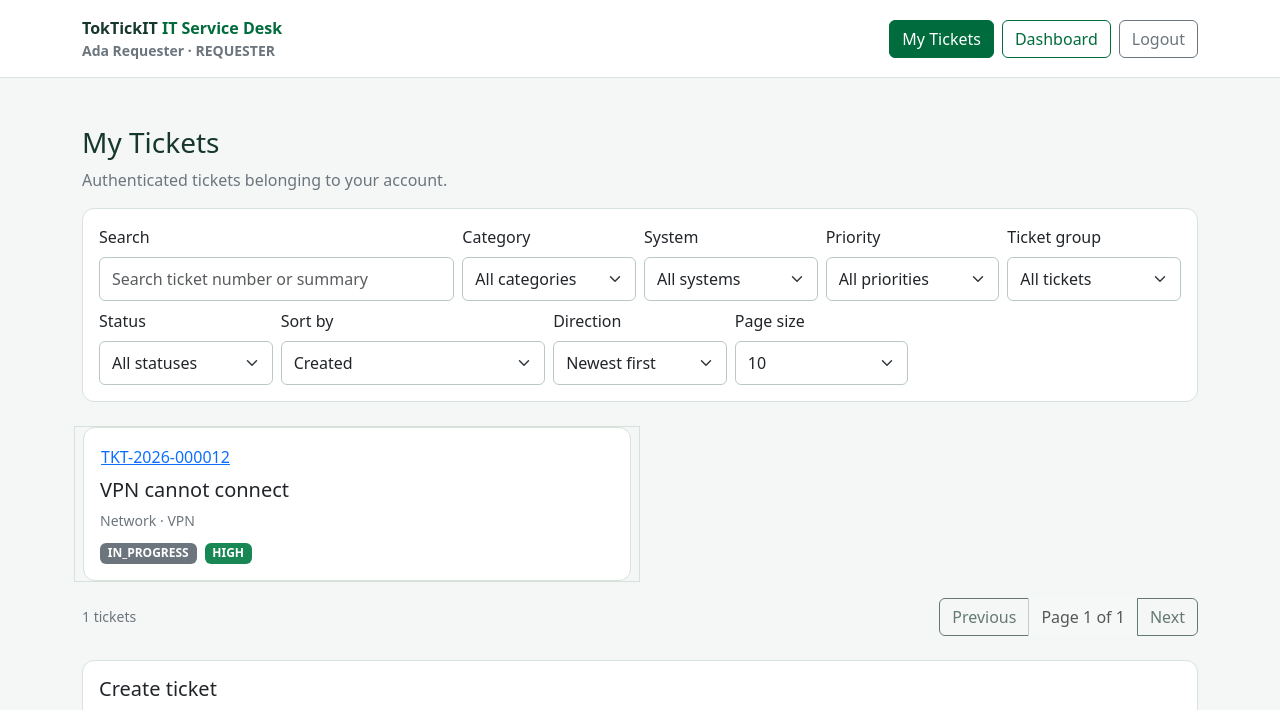
Test: Lab 3 Requester interactions › posts a Public Comment with the authenticated ticket and content
The image size is (1280, 710).
Click the button with aria-label "Open ticket TKT-2026-000012".
click(165, 457)  # box [100,444,231,470]
(page scrolled)
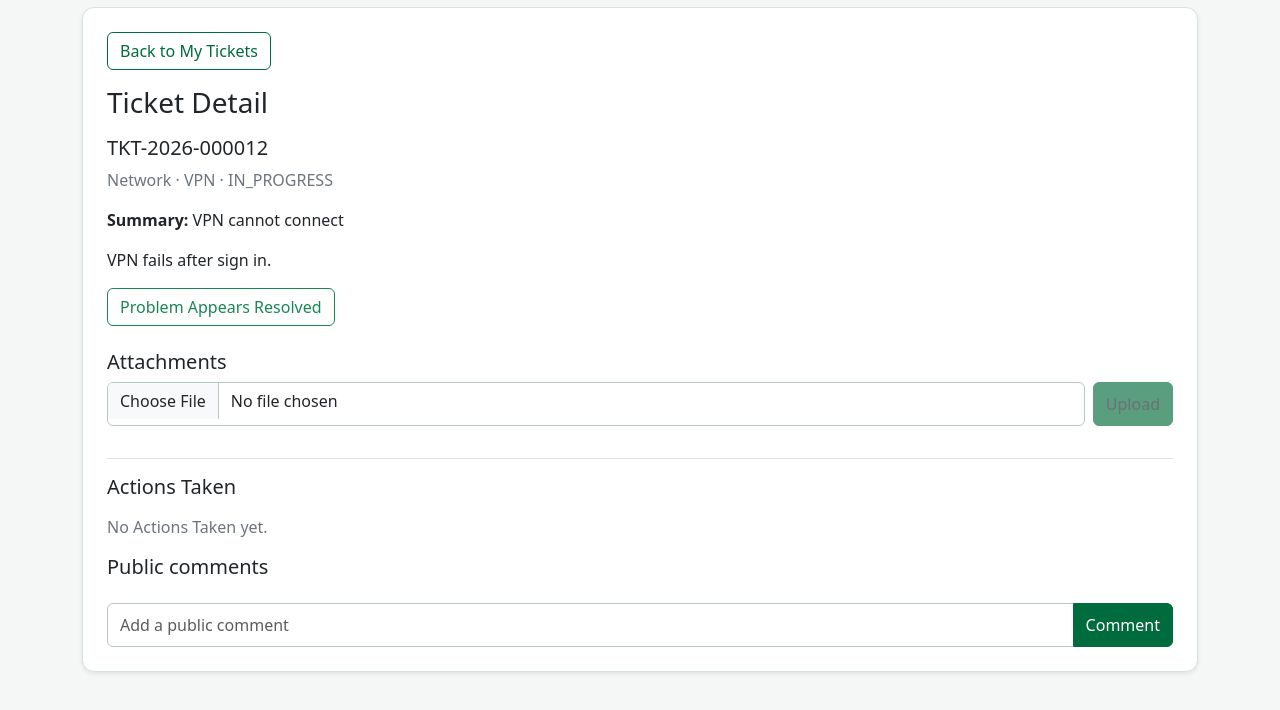
Type "VPN is working now." into the field labelled "public comment".
click(590, 625); type("VPN is working now.")  # box [107,603,1074,647]
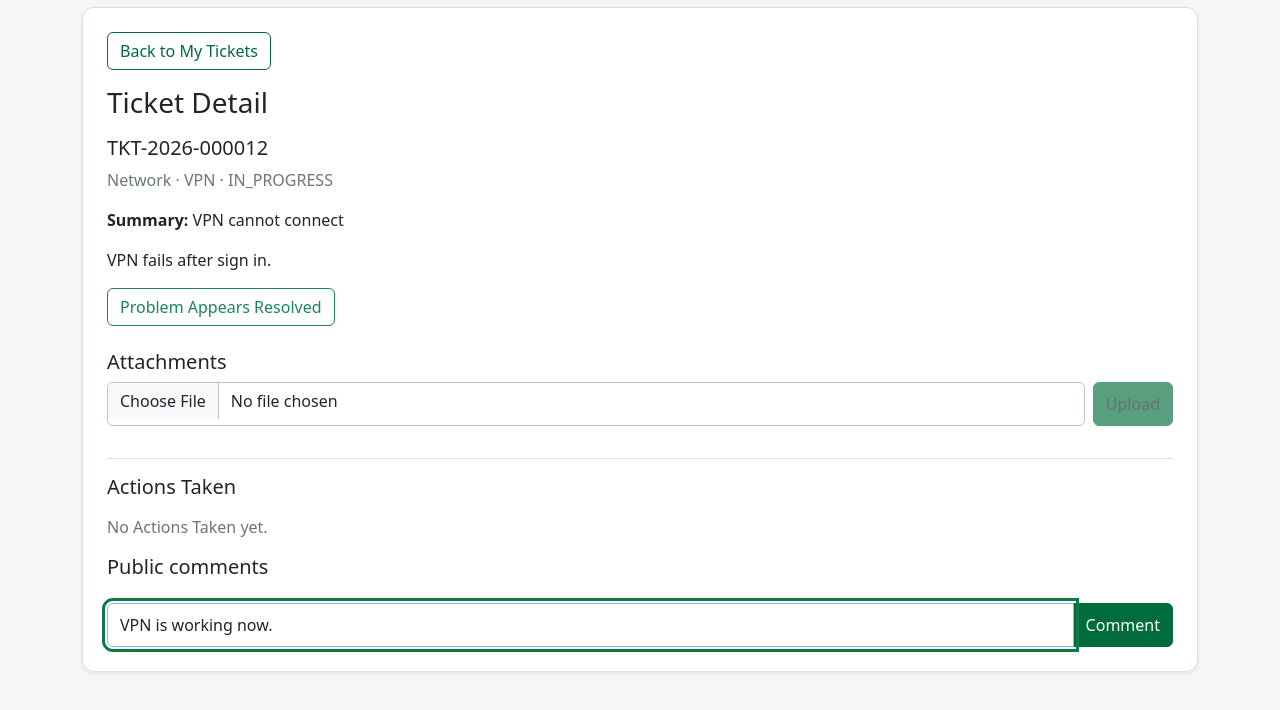
Click the button "Comment".
click(1123, 625)  # box [1073,603,1173,647]
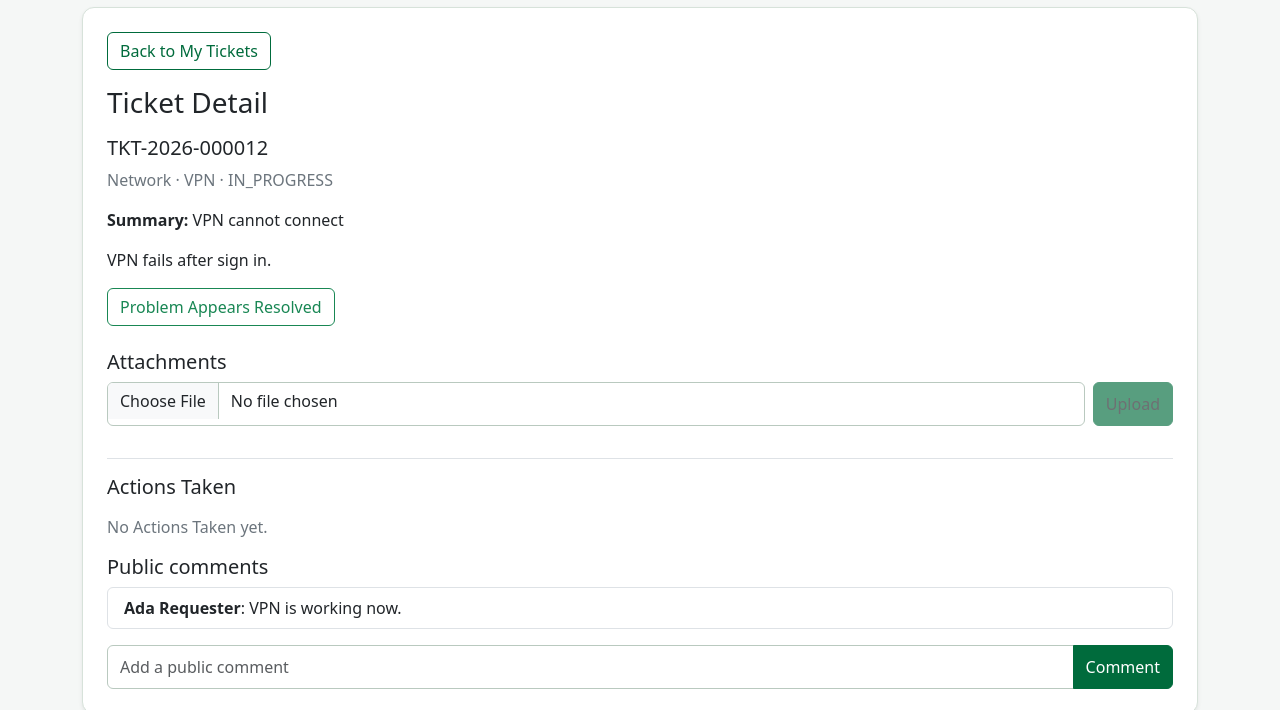
Expected: the list item shows "VPN is working now.", [249,597,402,619]
